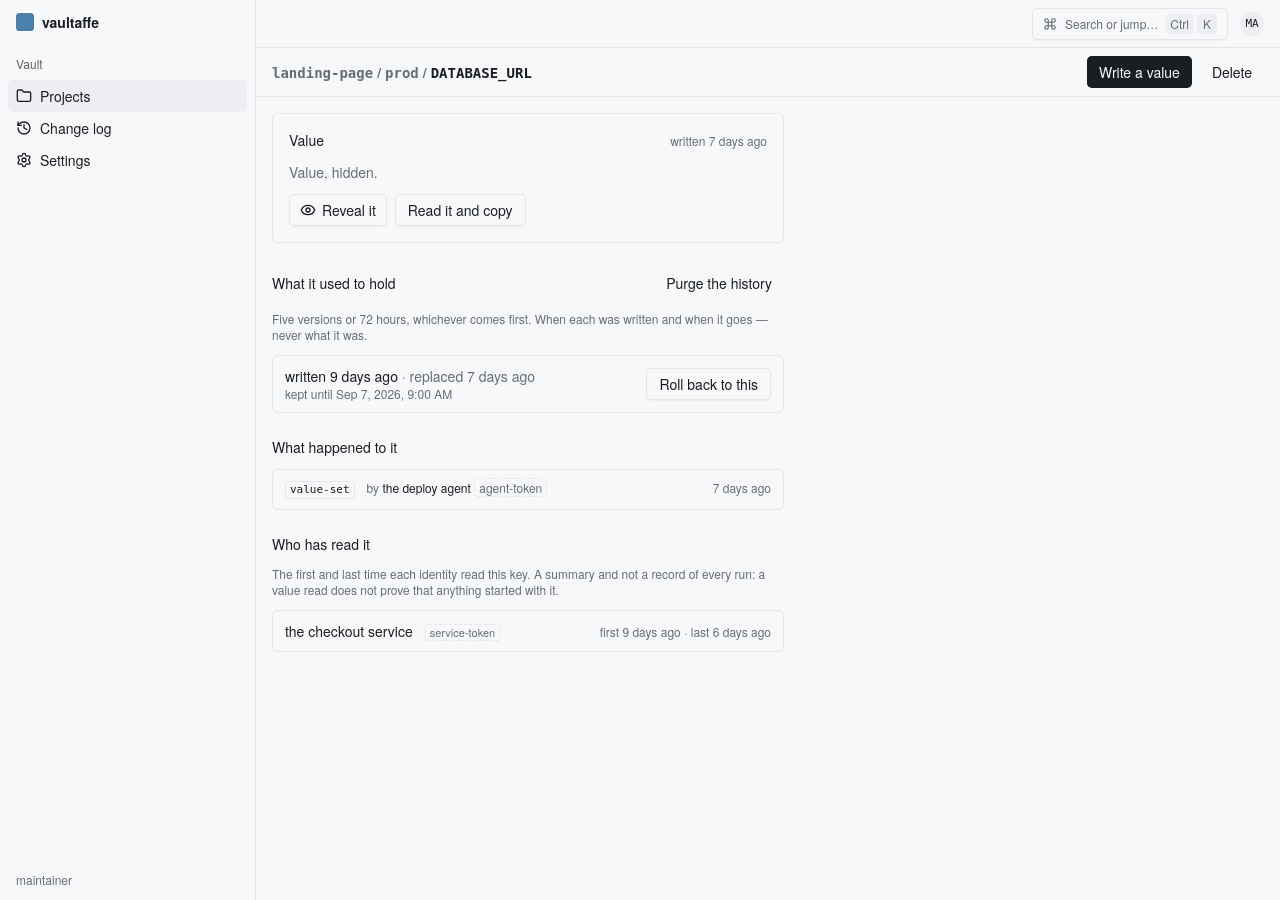
Test: a purge › removes what a key used to hold and keeps the key
The width and height of the screenshot is (1280, 900).
Click the button "Purge the history" at {"x": 719, "y": 283}, box [654,267,784,299]
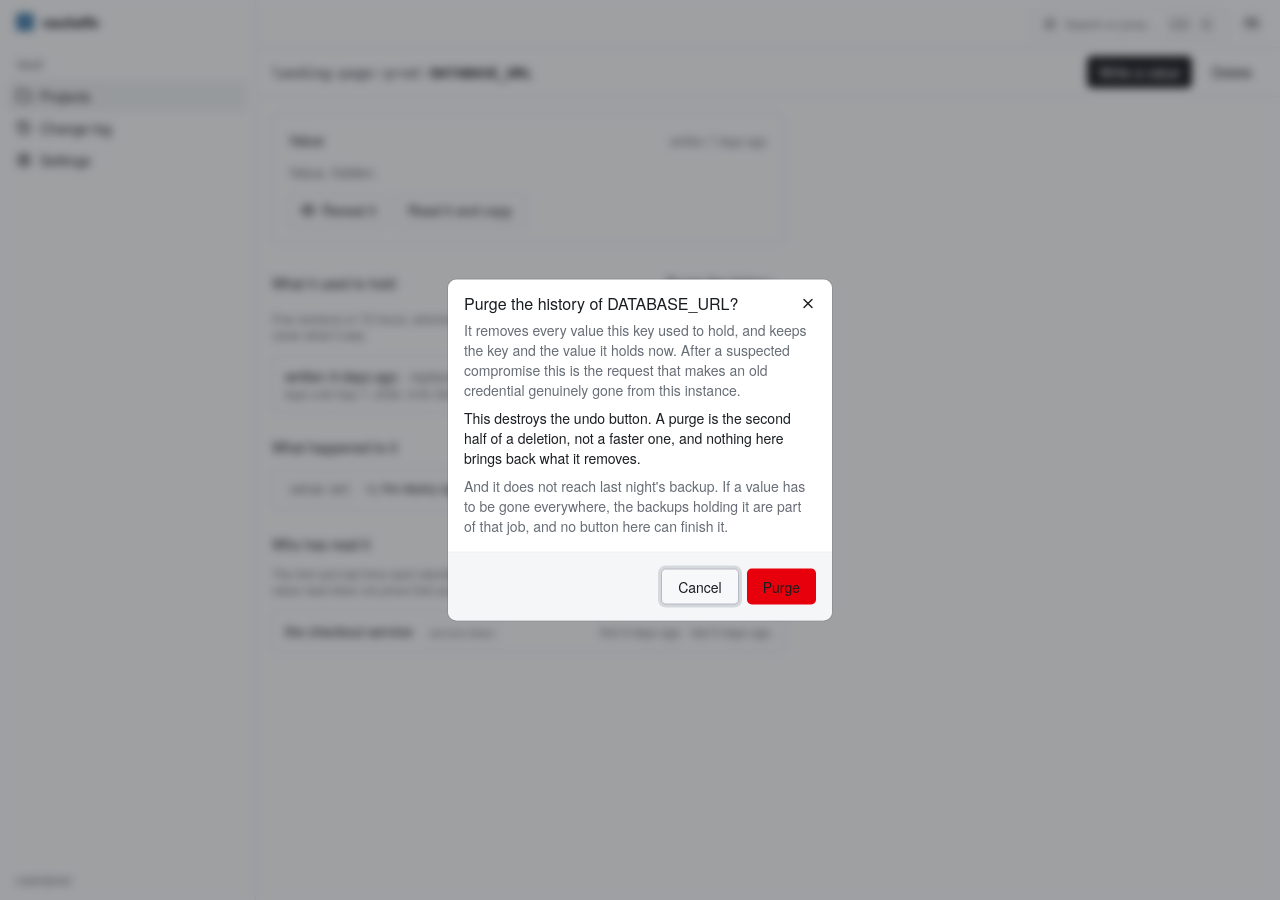
Click the button "Purge" at {"x": 781, "y": 586}, box [747,568,816,604]
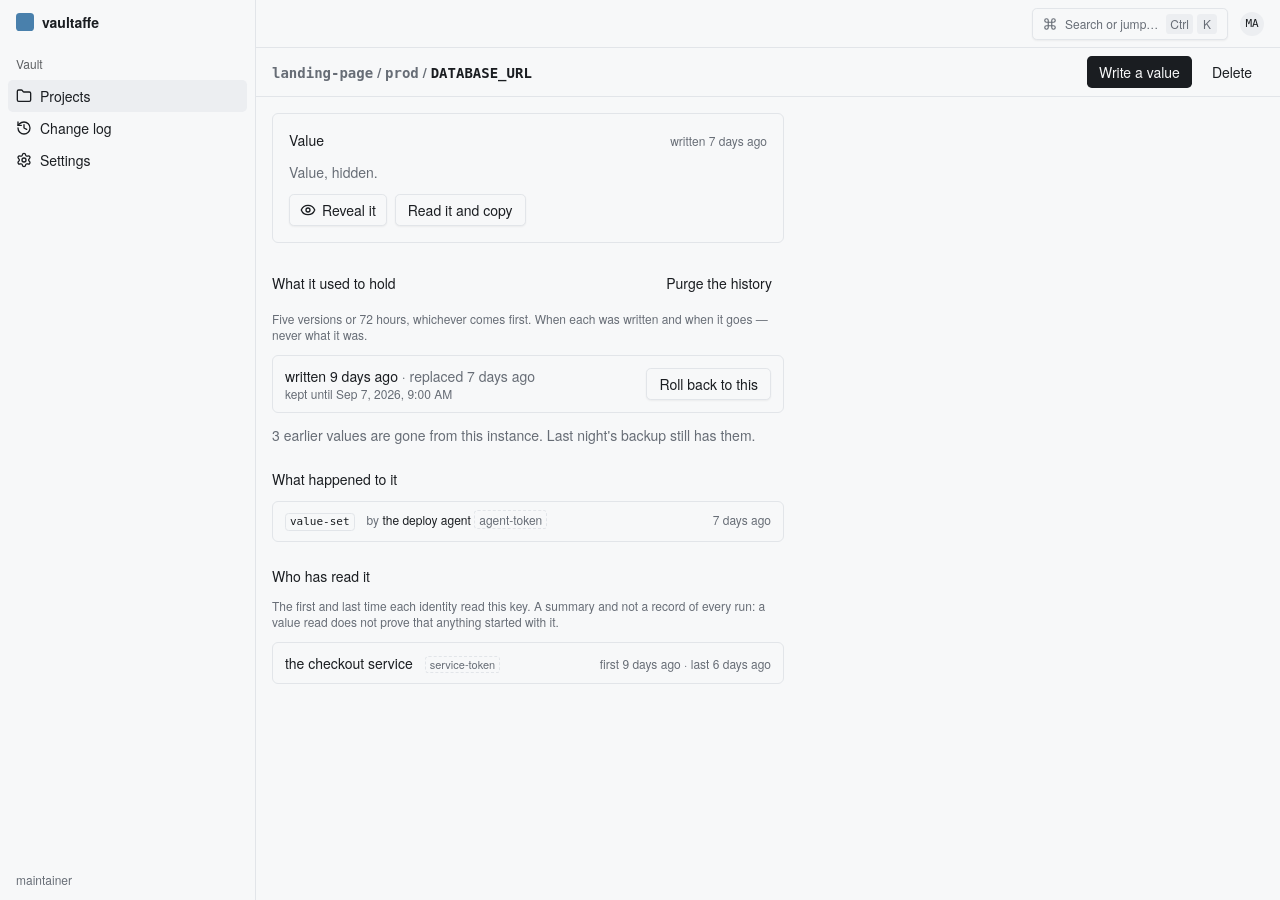
Now the text "3 earlier values are gone from this instance" is shown, box [272,425,543,445]
